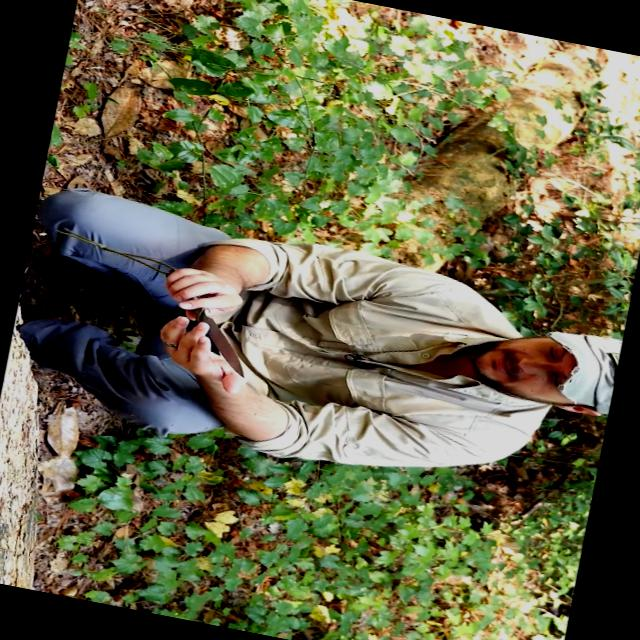knife: (143, 262, 270, 385)
